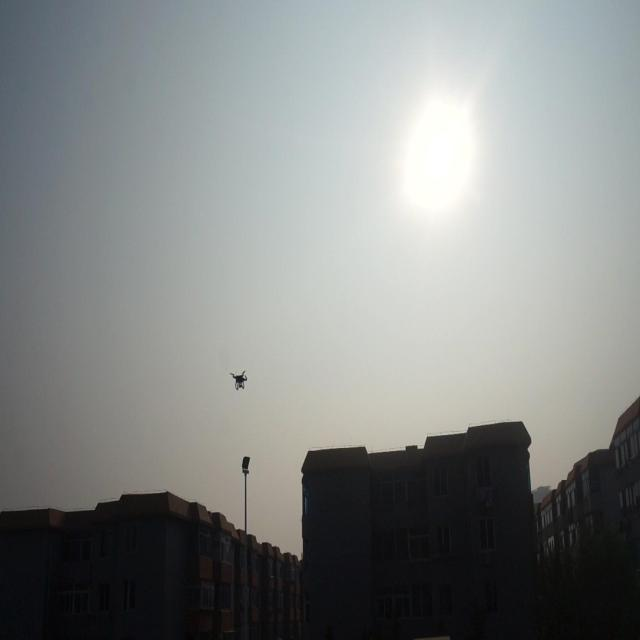drone: (230, 366, 249, 394)
